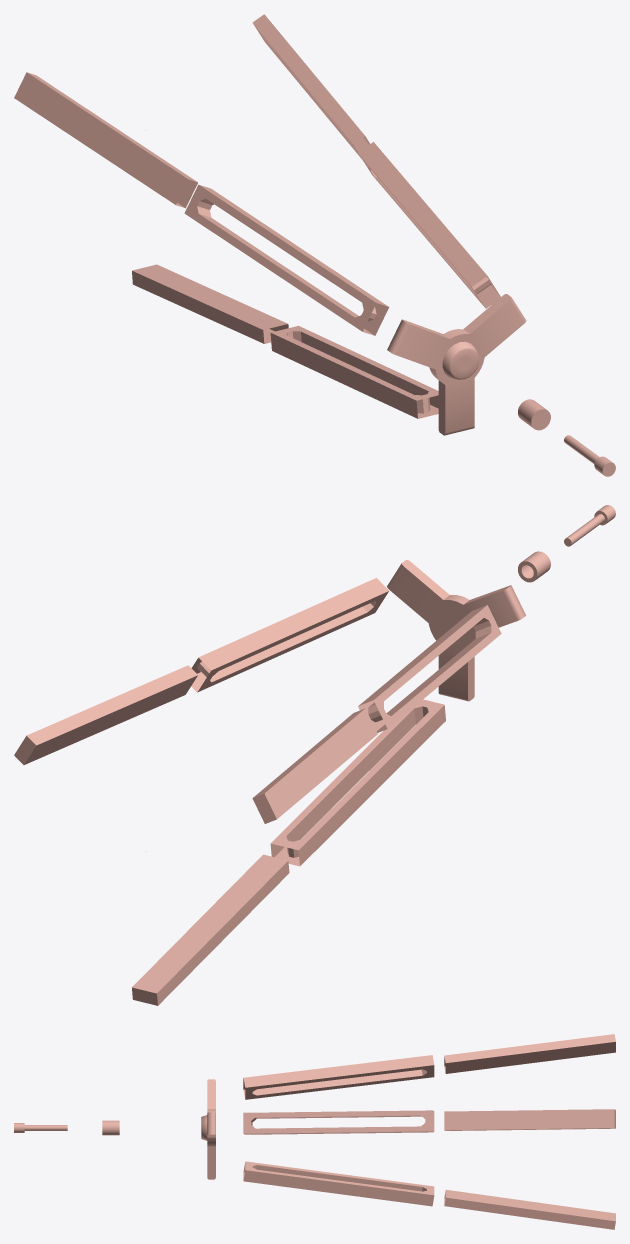
File: MeshFloorLamp_28_0_GeomSubset_0.obj
3 renders of one model, top to bottom at view 1: azimuth 30°, elevation 25°; view 2: azimuth 150°, elevation 25°; view 3: azimuth 270°, elevation 25°, orthographic. The views are drawn at different scales.
Parts seen in each view (by area): view 1: MeshFloorLamp_28_0_GeomSubset_0; view 2: MeshFloorLamp_28_0_GeomSubset_0; view 3: MeshFloorLamp_28_0_GeomSubset_0.
Part boxes in pixels (<box>): MeshFloorLamp_28_0_GeomSubset_0: <box>14,14,615,476</box>; MeshFloorLamp_28_0_GeomSubset_0: <box>14,505,615,1005</box>; MeshFloorLamp_28_0_GeomSubset_0: <box>14,1034,615,1229</box>.
Bounding box in the file's own units: 0.6213 × 0.538 × 1.9.
